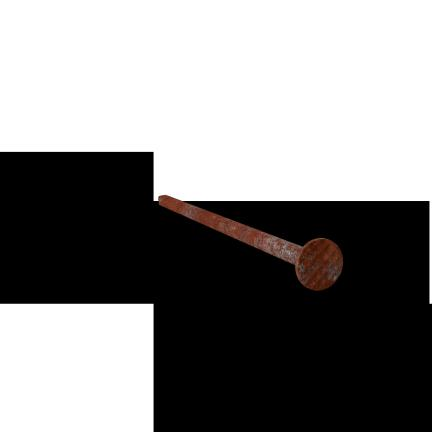karat: (159, 196, 343, 290), (296, 238, 343, 290)
